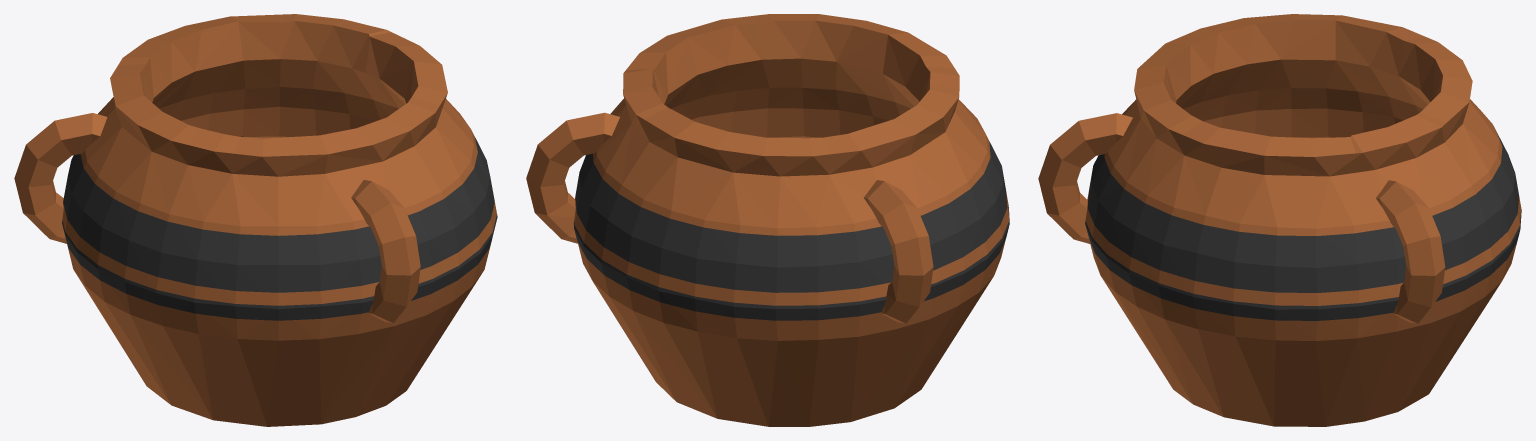
Rendered from Pottery 11_2b.fbx.
3 renders of one model, left to right at view 1: azimuth 30°, elevation 25°; view 2: azimuth 150°, elevation 25°; view 3: azimuth 270°, elevation 25°, orthographic.
Parts seen in each view (by area): view 1: Pottery 11_2b.002, Pottery 11_2b.004, Pottery 11_2b, Pottery 11_2b.003, Pottery 11_2b.005, Pottery 11_2b.006, Pottery 11_2b.001; view 2: Pottery 11_2b.005, Pottery 11_2b.004, Pottery 11_2b, Pottery 11_2b.002, Pottery 11_2b.006, Pottery 11_2b.001, Pottery 11_2b.003; view 3: Pottery 11_2b.001, Pottery 11_2b.006, Pottery 11_2b.004, Pottery 11_2b.002, Pottery 11_2b, Pottery 11_2b.005, Pottery 11_2b.003.
Part boxes in pixels (x1,y1,x2,y2): Pottery 11_2b.002: (232, 97, 480, 338); Pottery 11_2b.004: (14, 64, 200, 378); Pottery 11_2b: (104, 136, 484, 426); Pottery 11_2b.003: (156, 128, 319, 378); Pottery 11_2b.005: (118, 14, 284, 138); Pottery 11_2b.006: (279, 14, 398, 137); Pottery 11_2b.001: (365, 32, 497, 268); Pottery 11_2b.005: (601, 107, 830, 340); Pottery 11_2b.004: (816, 84, 1009, 378); Pottery 11_2b: (601, 136, 969, 426); Pottery 11_2b.002: (751, 14, 953, 138); Pottery 11_2b.006: (526, 69, 667, 320); Pottery 11_2b.001: (610, 16, 769, 137); Pottery 11_2b.003: (919, 66, 1009, 220); Pottery 11_2b.001: (1129, 121, 1360, 385); Pottery 11_2b.006: (1350, 112, 1492, 375); Pottery 11_2b.004: (1221, 14, 1427, 138); Pottery 11_2b.002: (1038, 34, 1213, 274); Pottery 11_2b: (1100, 257, 1501, 426); Pottery 11_2b.005: (1399, 36, 1521, 280); Pottery 11_2b.003: (1181, 22, 1246, 127).
Size of the model in its own units: 76.29 by 53.26 by 80.32.
